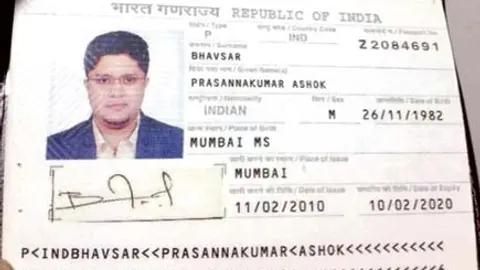DOB: (355, 106, 463, 124)
Surname: (189, 47, 273, 66)
country_code: (278, 30, 323, 48)
date_of_expiry: (356, 193, 464, 214)
date_of_issue: (228, 194, 334, 218)
details: (0, 214, 473, 270)
name: (189, 74, 335, 93)
nationality: (187, 103, 272, 121)
passport_no: (351, 37, 447, 60)
photo: (53, 28, 181, 157)
place_of_birth: (186, 132, 282, 151)
place_of_issue: (231, 159, 304, 183)
sex: (305, 107, 351, 122)
sign: (58, 168, 205, 212)
type: (189, 28, 230, 43)
